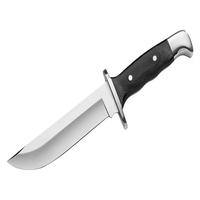knife: (4, 27, 188, 173)
